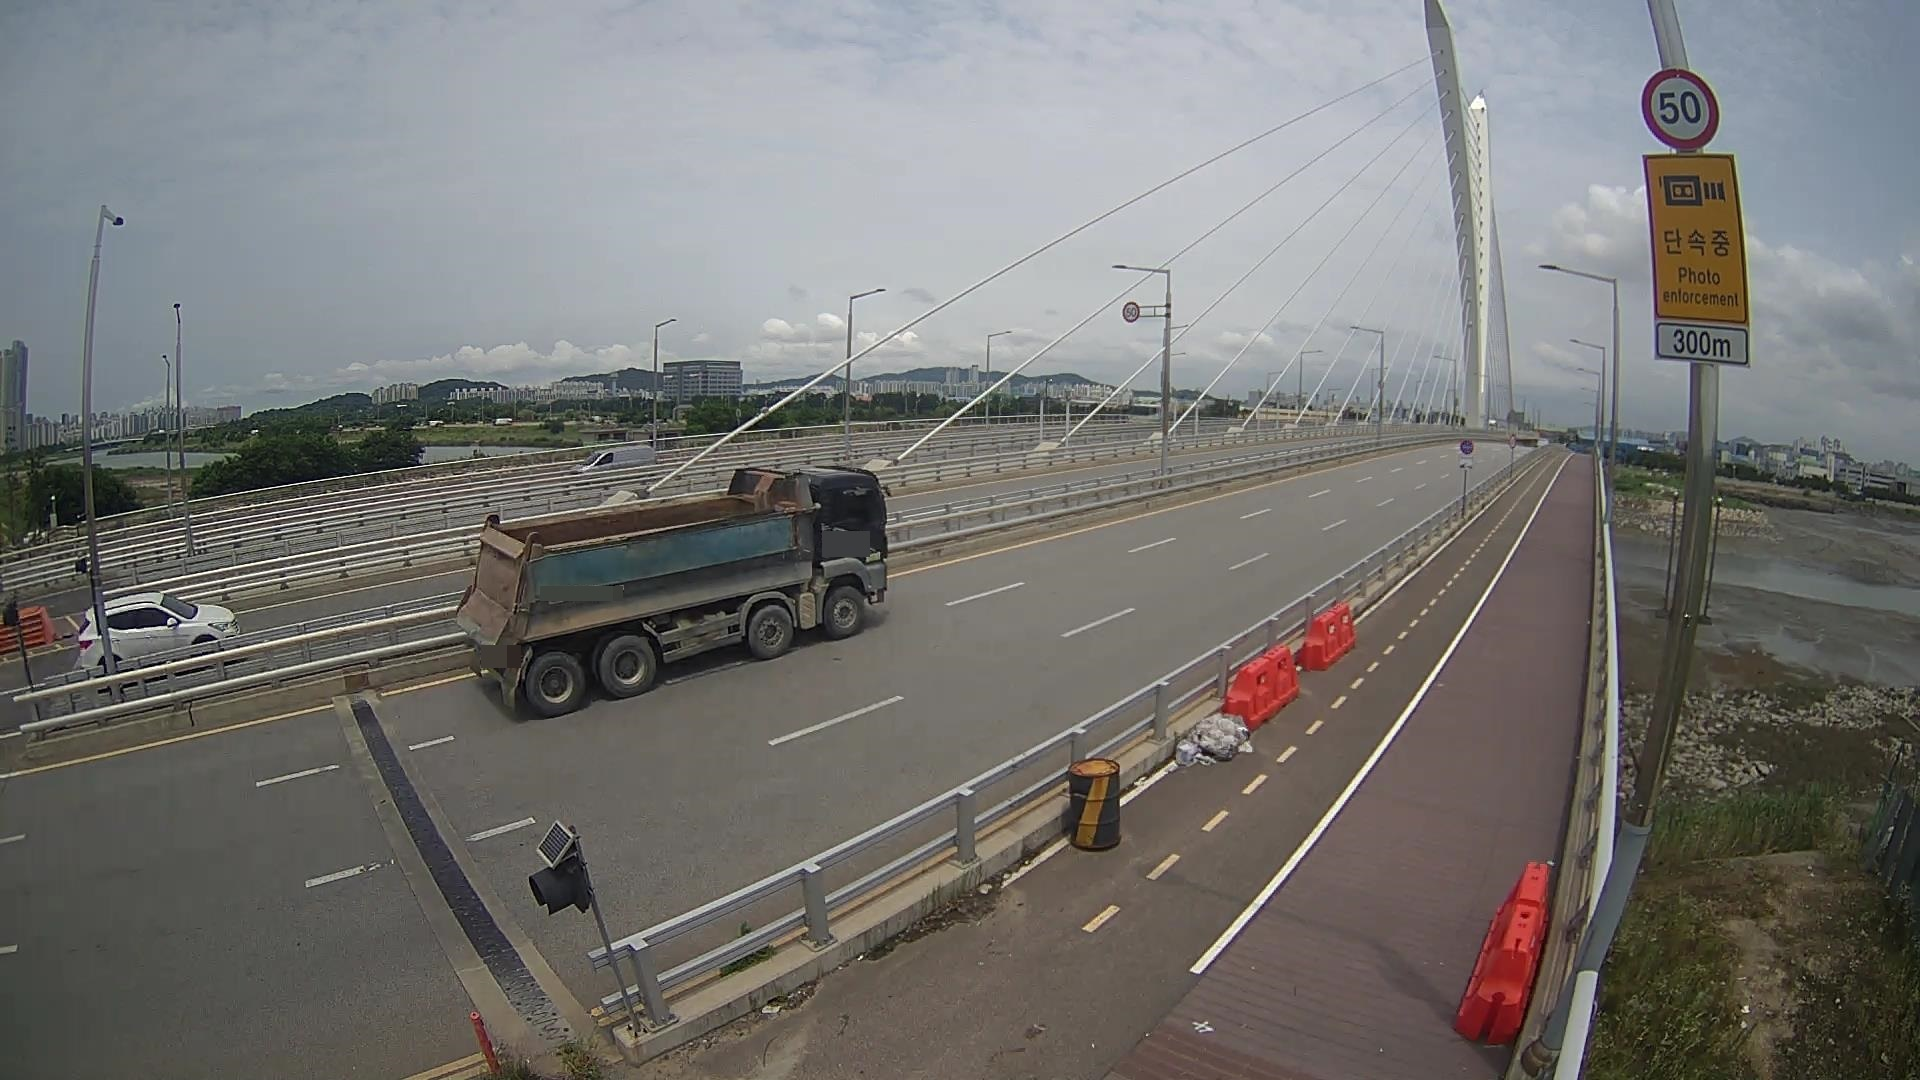정상차량: (456, 465, 893, 718)
